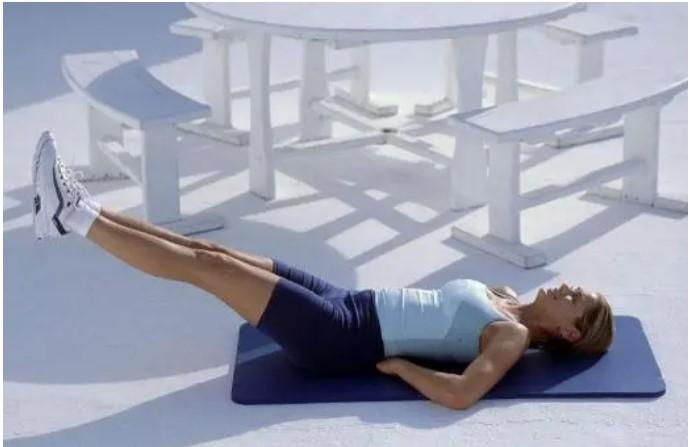down: (34, 126, 620, 404)
